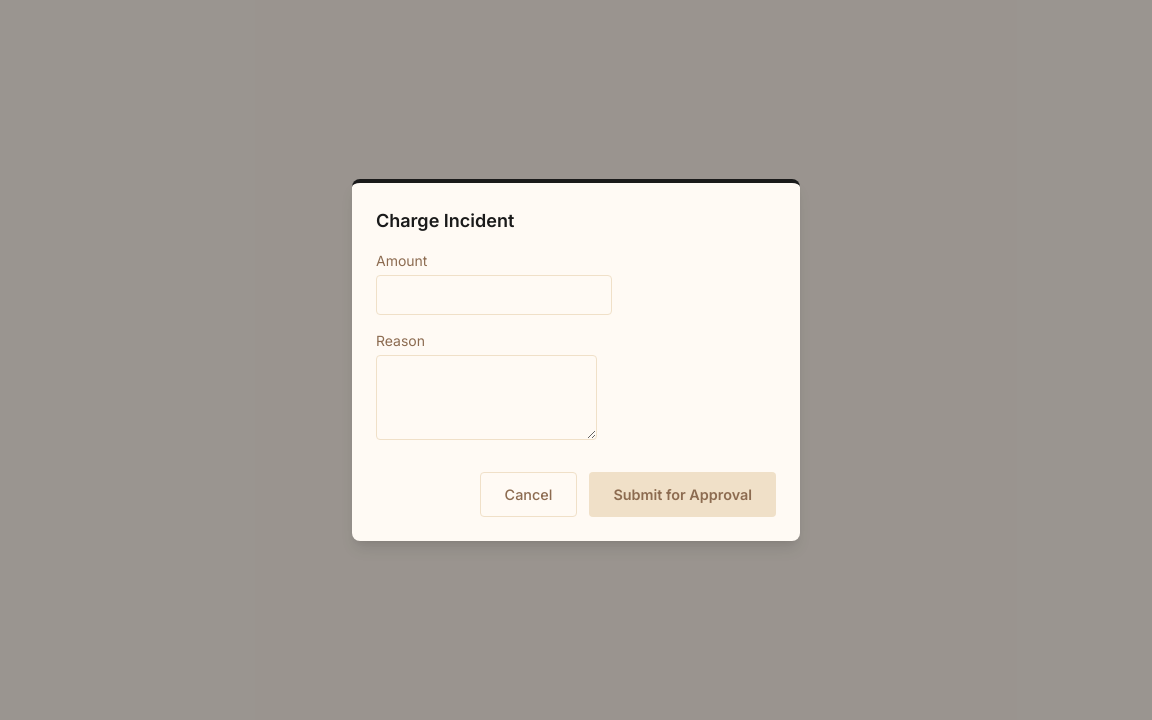
Test: IncidentChargeRequestModal › shows a generic error message for a non-409 failure
The width and height of the screenshot is (1152, 720).
Type "20" into the number field at x=494, y=295, box [376,274,612,315]
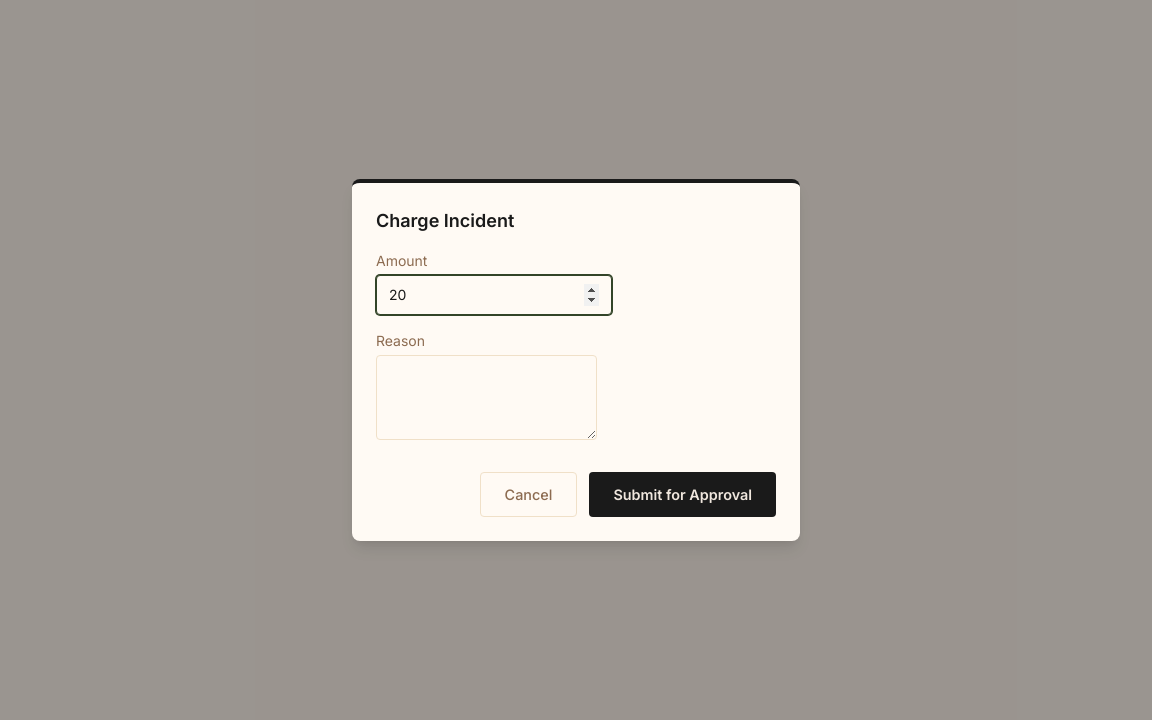
Type "Broken lamp" into the text box at x=486, y=398, box [376,355,597,440]
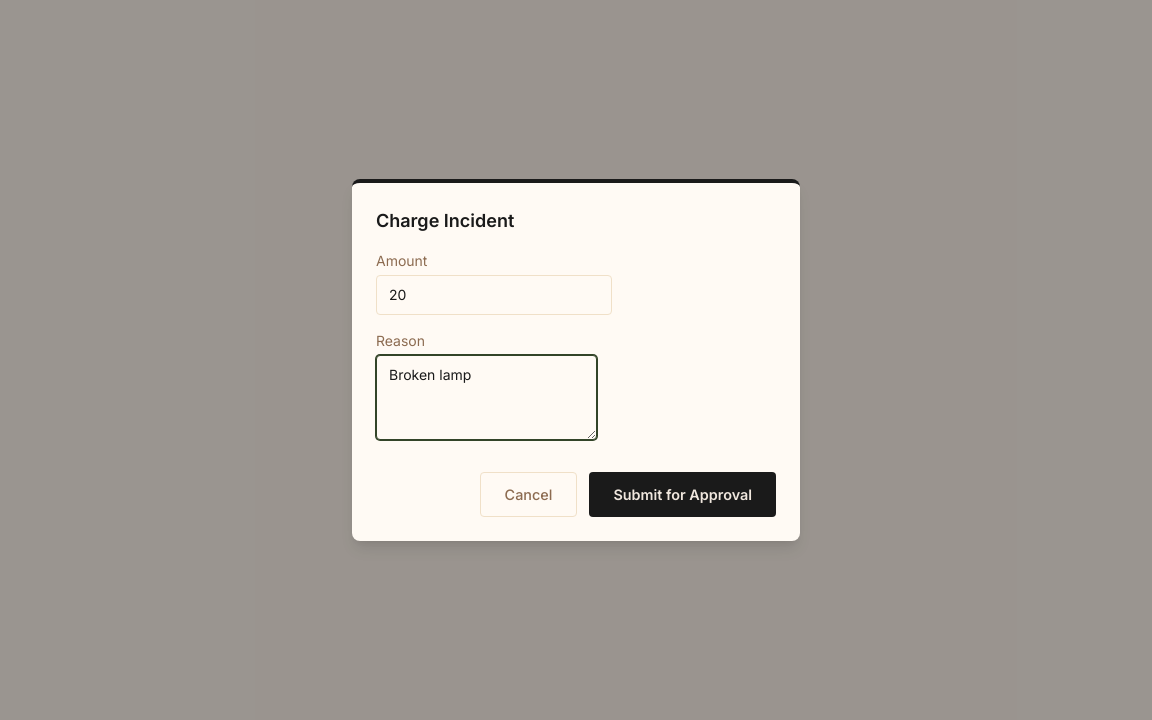
Click the button "Submit for Approval" at x=683, y=495, box [589,472,776,518]
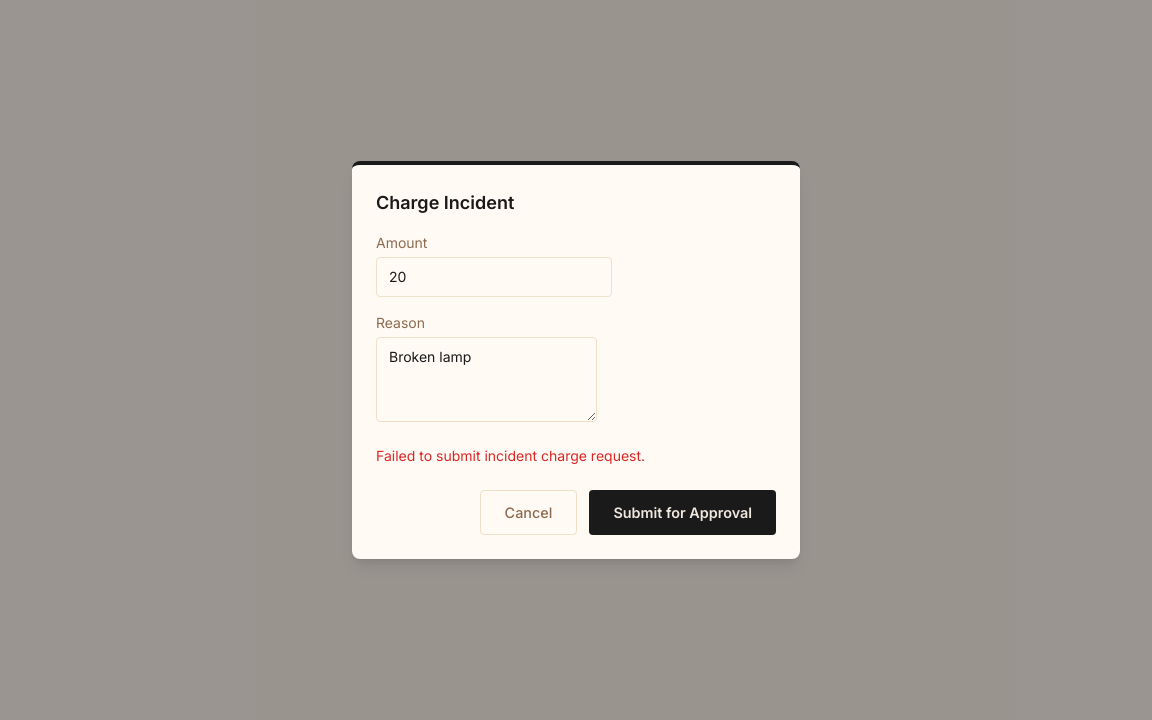
Expected: the text "Failed to submit incident charge request." is shown, [376,447,645,464]
